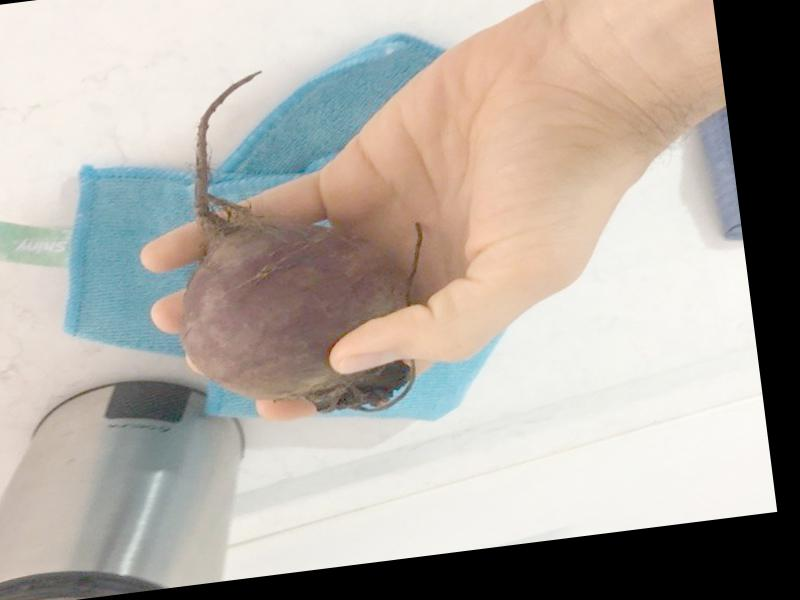Beet: (149, 53, 441, 433)
